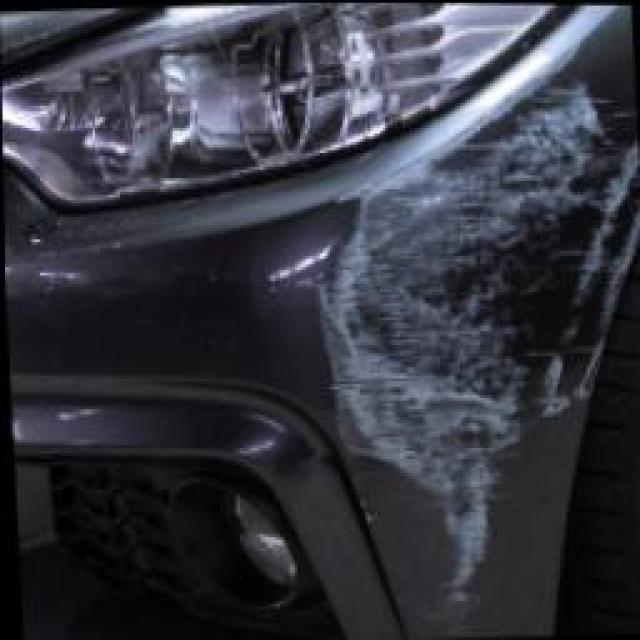Bumper: (80, 4, 640, 619)
